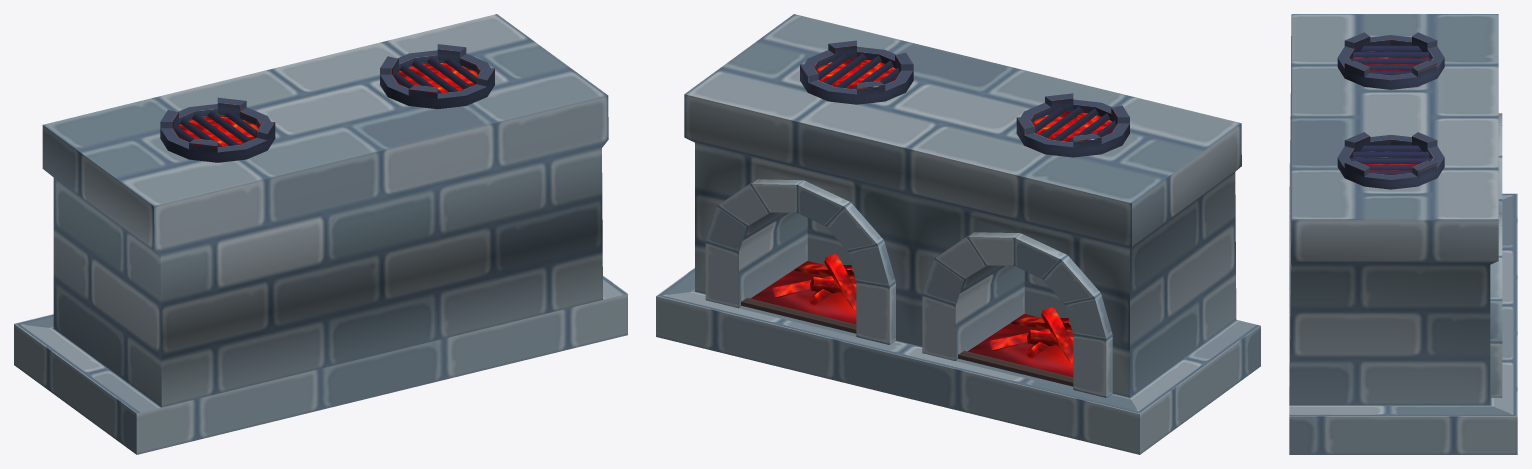
File: KTB0110005.fbx
The picture shows the model from 3 angles, left to right: view 1: azimuth 30°, elevation 25°; view 2: azimuth 150°, elevation 25°; view 3: azimuth 270°, elevation 25°; orthographic projection. The views are drawn at different scales.
Visible parts, largest first — view 1: smKTB0110005; view 2: smKTB0110005; view 3: smKTB0110005.
Part boxes in pixels (x1,y1,x2,y2): smKTB0110005: (14, 14, 627, 454); smKTB0110005: (656, 14, 1260, 454); smKTB0110005: (1289, 14, 1517, 454).
Size of the model in its own units: 198 by 100 by 85.85.
1 material, 1 textured.
